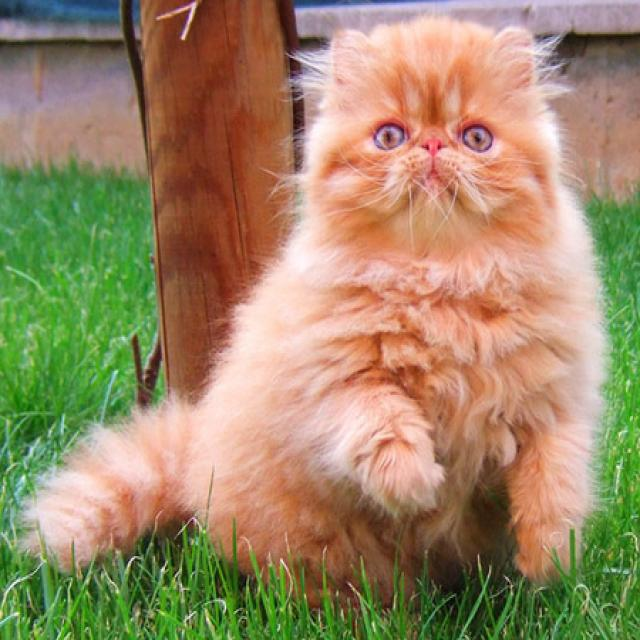Persian: (15, 11, 609, 610)
